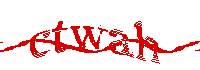a: (109, 30, 132, 58)
c: (29, 29, 53, 60)
h: (134, 21, 161, 65)
t: (52, 18, 68, 55)
w: (70, 25, 107, 52)
